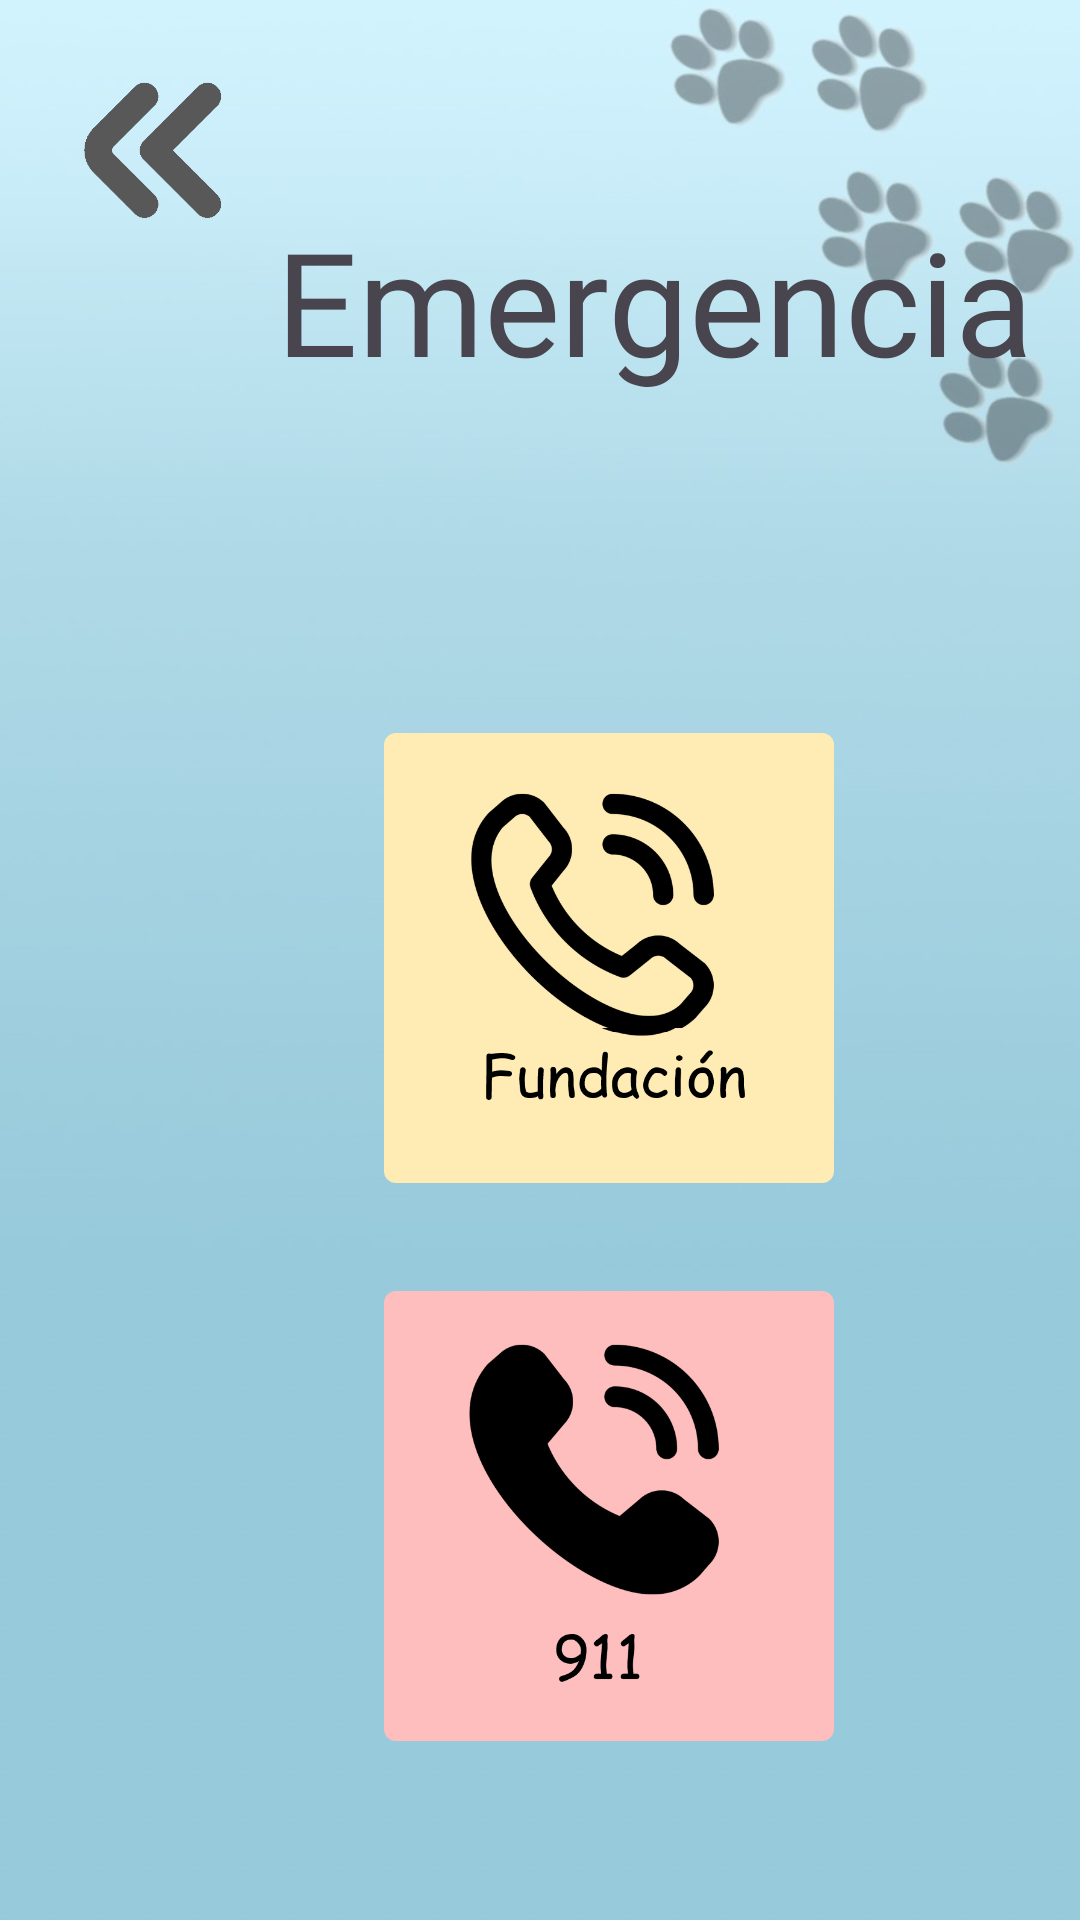

Screen size 1080px x 1920px. Icon name, then its center in pixels as (x,y):
regresar: (152,150)
